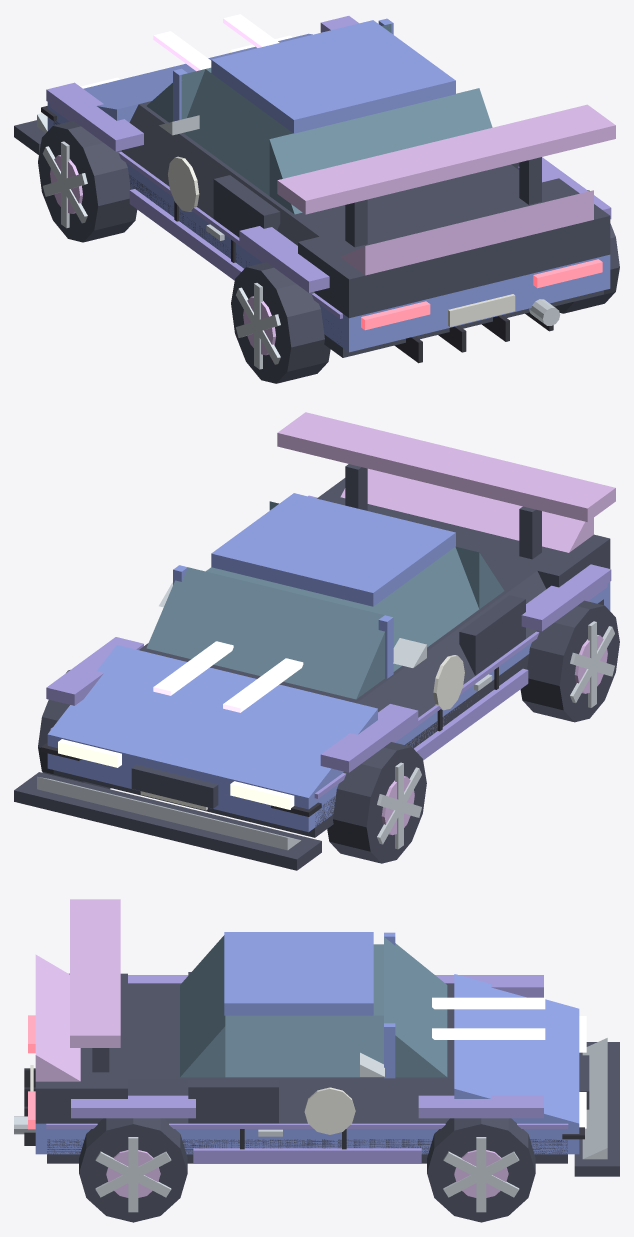
File: finishline_fury.glb
3 views of the same model, one above another, from view 1: azimuth 30°, elevation 25°; view 2: azimuth 150°, elevation 25°; view 3: azimuth 270°, elevation 25° (orthographic). The views are drawn at different scales.
Parts seen in each view (by area): view 1: Tail.094, Roof.294, RearWing.057, RearWindow.194, Body.294, Ducktail.066, Wheel_RL.254, Wheel_FL.254, CabinSideL.091, BodyUpper.091, ShoulderL.091, Arch-1False.170 (+27 smaller); view 2: Nose.091, Windshield.194, Roof.294, RearWing.057, Splitter.061, Ducktail.066, Body.294, Wheel_FL.254, Wheel_RL.254, CabinSideL.091, Tail.094, ShoulderL.091 (+24 smaller); view 3: Roof.294, Nose.091, CabinSideR.091, RearWing.057, Body.294, ShoulderR.091, Windshield.194, Wheel_FR.254, Wheel_RR.254, BodyUpper.091, RearWindow.194, Tail.094 (+26 smaller).
Part boxes in pixels (left/top/right/bottom): Tail.094: left=298, top=178, right=610, bottom=318; Roof.294: left=211, top=20, right=455, bottom=133; RearWing.057: left=277, top=104, right=615, bottom=214; RearWindow.194: left=269, top=88, right=492, bottom=214; Body.294: left=47, top=102, right=610, bottom=352; Ducktail.066: left=340, top=190, right=593, bottom=275; Wheel_RL.254: left=231, top=262, right=330, bottom=383; Wheel_FL.254: left=38, top=121, right=137, bottom=242; CabinSideL.091: left=183, top=69, right=292, bottom=195; BodyUpper.091: left=139, top=101, right=519, bottom=236; ShoulderL.091: left=121, top=104, right=318, bottom=245; Arch-1False.170: left=46, top=82, right=143, bottom=151; Nose.091: left=48, top=645, right=377, bottom=797; Windshield.194: left=146, top=567, right=384, bottom=699; Roof.294: left=211, top=493, right=455, bottom=606; RearWing.057: left=277, top=412, right=615, bottom=521; Splitter.061: left=14, top=772, right=321, bottom=870; Ducktail.066: left=340, top=468, right=593, bottom=552; Body.294: left=47, top=582, right=610, bottom=832; Wheel_FL.254: left=327, top=742, right=426, bottom=863; Wheel_RL.254: left=520, top=600, right=619, bottom=722; CabinSideL.091: left=368, top=546, right=479, bottom=671; Tail.094: left=317, top=478, right=610, bottom=588; ShoulderL.091: left=356, top=571, right=546, bottom=717; Roof.294: left=224, top=932, right=373, bottom=1015; Nose.091: left=454, top=974, right=579, bottom=1123; CabinSideR.091: left=225, top=1015, right=383, bottom=1077; RearWing.057: left=70, top=899, right=120, bottom=1047; Body.294: left=35, top=1123, right=579, bottom=1154; ShoulderR.091: left=128, top=1079, right=454, bottom=1123; Windshield.194: left=384, top=937, right=447, bottom=1077; Wheel_FR.254: left=427, top=1118, right=535, bottom=1222; Wheel_RR.254: left=79, top=1118, right=187, bottom=1222; BodyUpper.091: left=128, top=983, right=454, bottom=1078; RearWindow.194: left=180, top=935, right=225, bottom=1077; Tail.094: left=35, top=973, right=127, bottom=1123.
Size of the model in its own units: 3.1 by 1.78 by 5.35.
